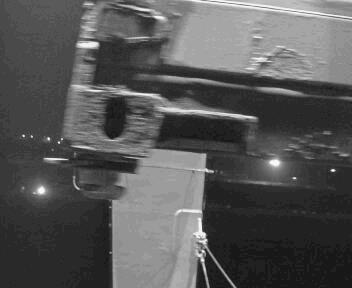twist_lock_1: (60, 145, 146, 204)
